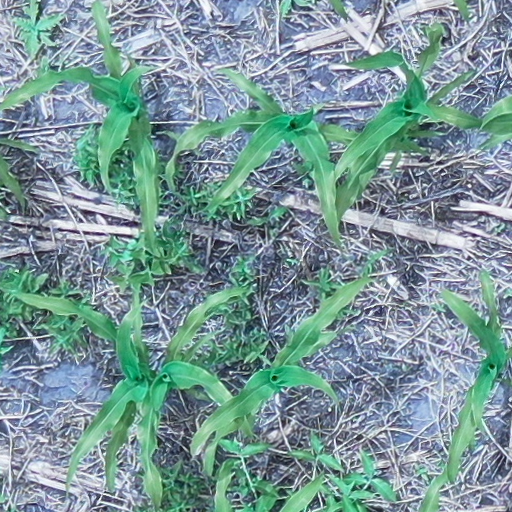planta: (164, 67, 378, 248), (189, 276, 374, 479), (10, 282, 152, 491)
